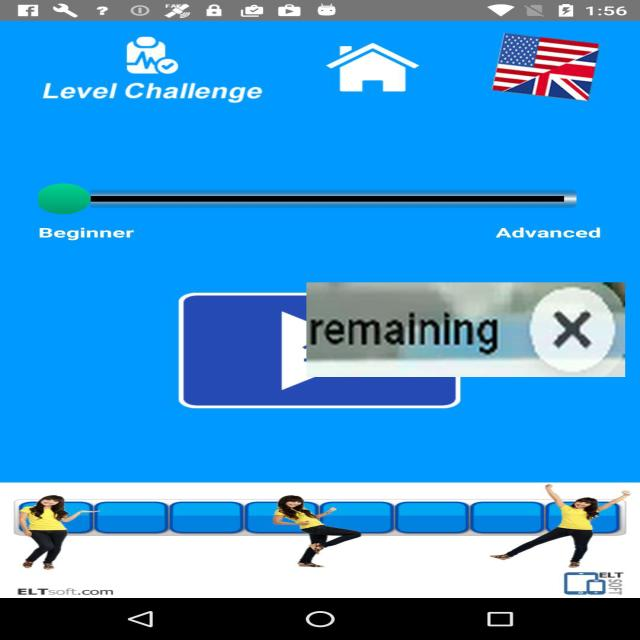misdirection: (306, 282, 626, 377)
